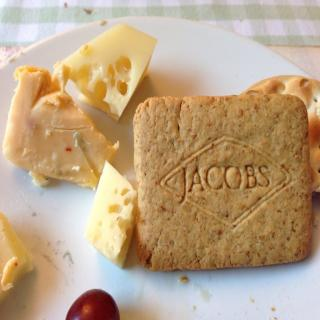Cheese: (0, 62, 119, 190), (54, 19, 158, 121), (83, 158, 139, 271), (0, 211, 36, 305)
